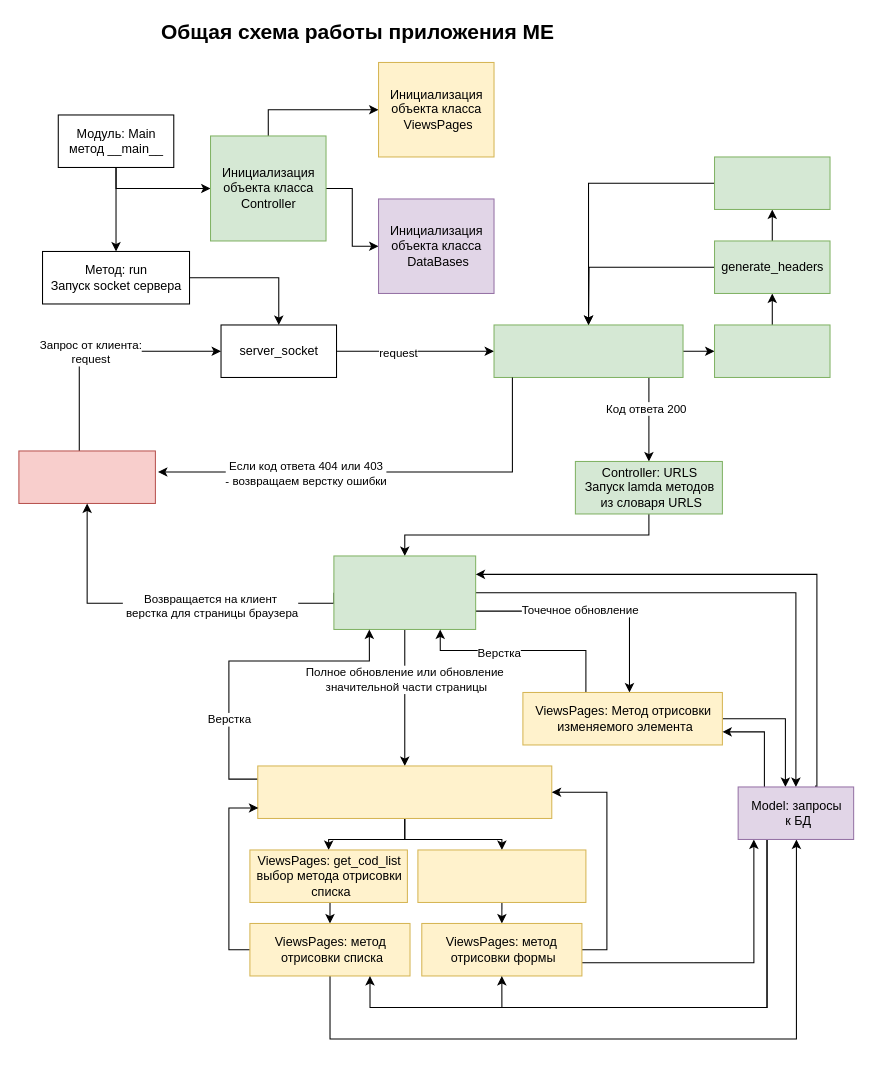
This 871x1066 diagram has some shape labels left out. Each missing label, with the centre of its shape:
Controller: generate_response: the point at 588,350
Controller: метод из словаря URLS: the point at 404,592
generate content: the point at 771,182
parse_request: the point at 771,350
ViewsPages: generate_page_code_recursion: the point at 404,791
ViewsPages: get_cod_form выбор метода отрисовки формы: the point at 501,875
Клиент - страница браузера: the point at 86,476
